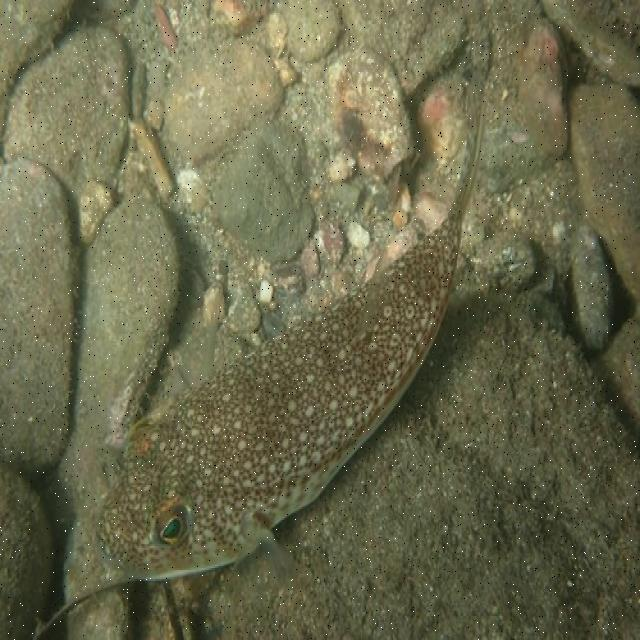Balik: (99, 100, 482, 580)
